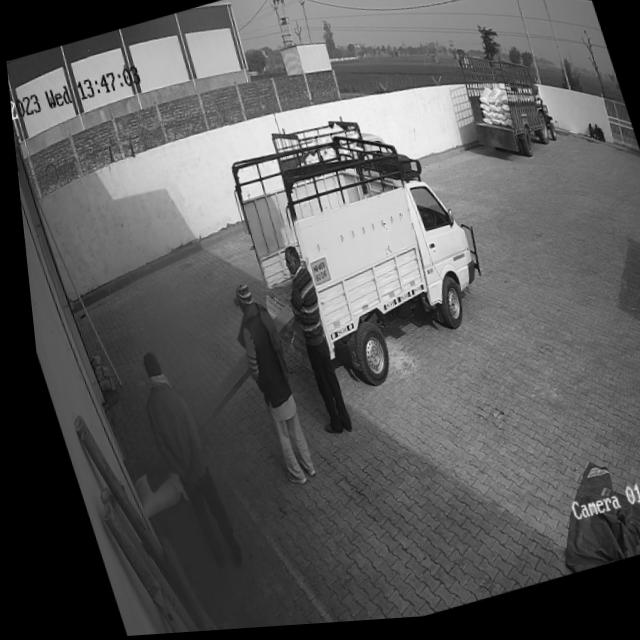sack: (120, 464, 178, 519)
